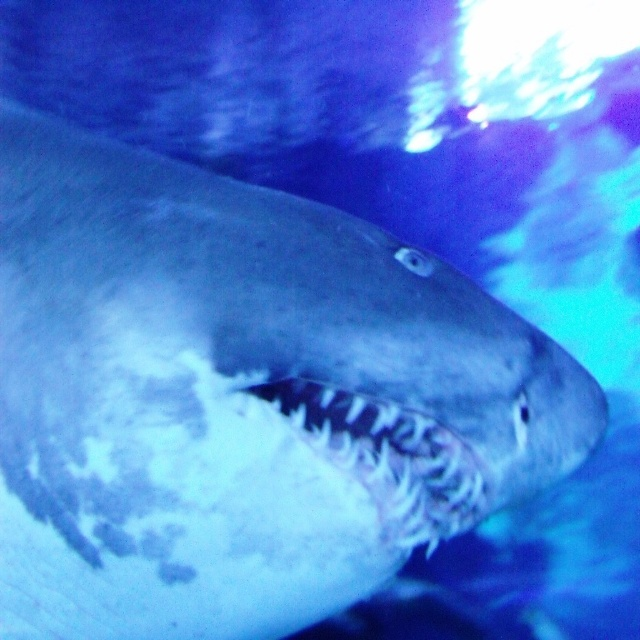Shark: (0, 106, 609, 640)
